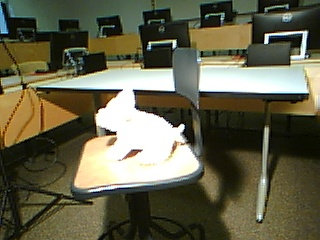piggy: (94, 86, 187, 163)
